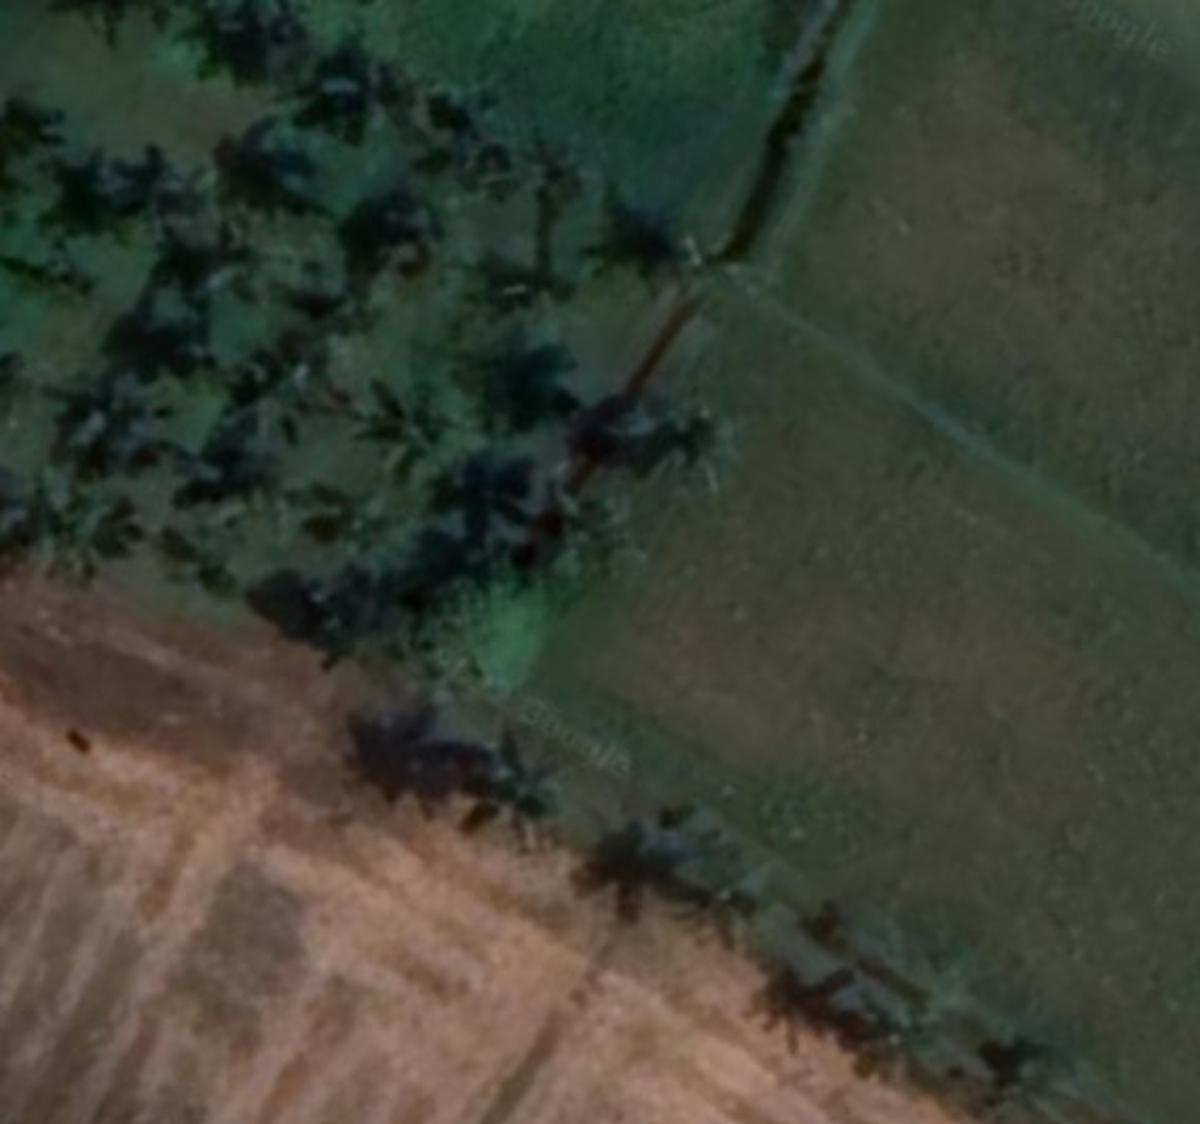coconut: (481, 240, 606, 361), (836, 990, 965, 1104), (652, 207, 773, 325), (204, 348, 340, 452), (352, 378, 471, 497), (663, 390, 769, 511), (33, 475, 137, 597), (547, 479, 642, 597), (223, 464, 338, 559), (460, 731, 559, 840), (669, 845, 771, 947), (319, 40, 414, 137), (325, 488, 411, 578)
